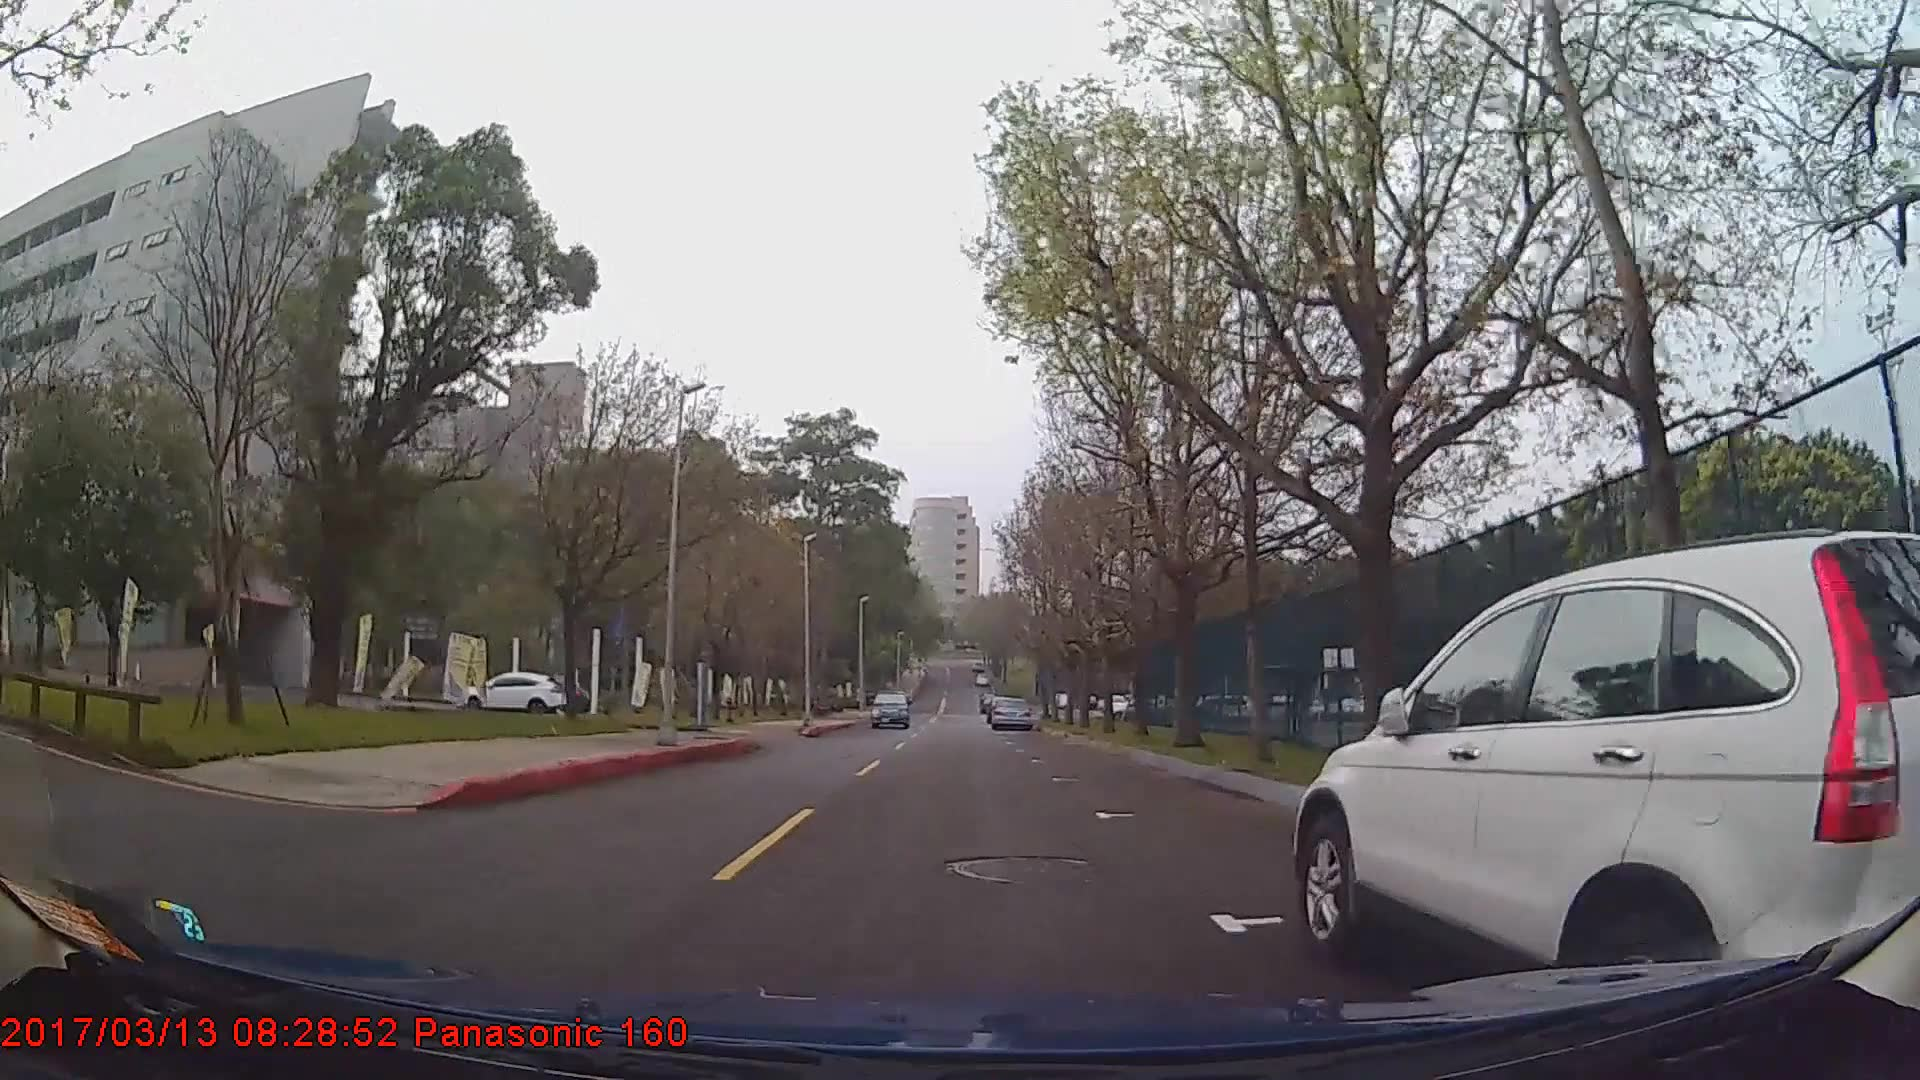vehicle: (1294, 529, 1920, 1030), (462, 670, 568, 717), (989, 694, 1031, 731), (872, 688, 911, 727)
